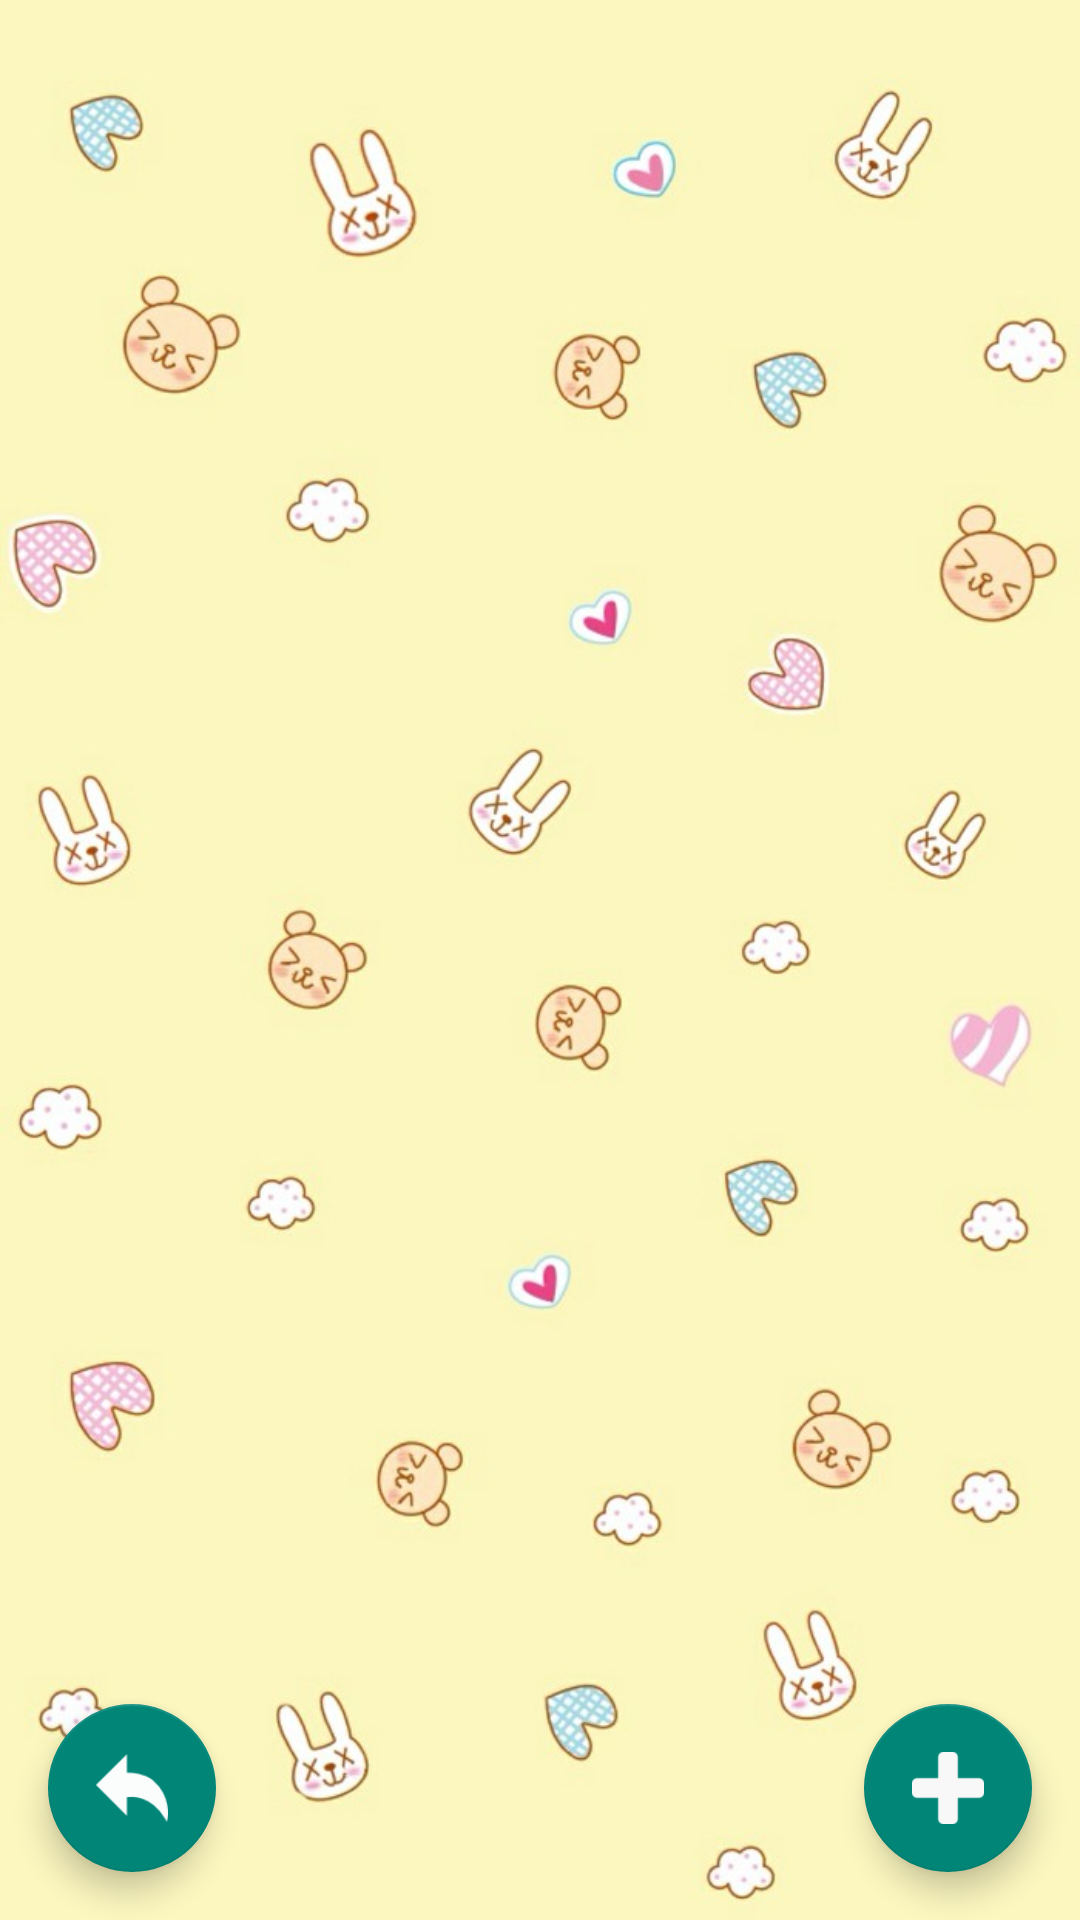

Icon click points for this 1080 x 1920 phone screenshot, format (x,y):
addicon: (948,1788)
backicon: (132,1788)
